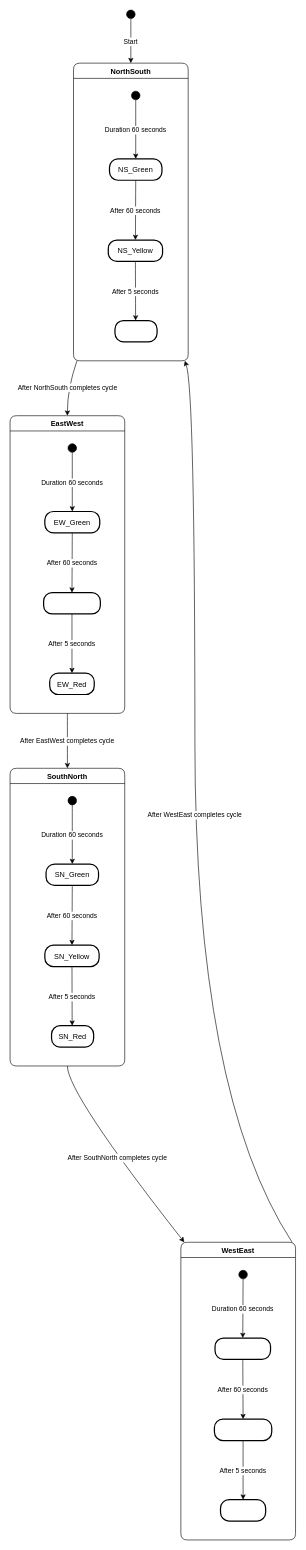
Some shapes in this 306 by 1550 pixel diagram are drawn without their labels. Here are the shapes that lost their labels. From the top down, the centre of each, then its label:
At point (135, 331): "NS_Red".
At point (72, 603): "EW_Yellow".
At point (242, 1348): "WE_Green".
At point (243, 1429): "WE_Yellow".
At point (243, 1510): "WE_Red".
